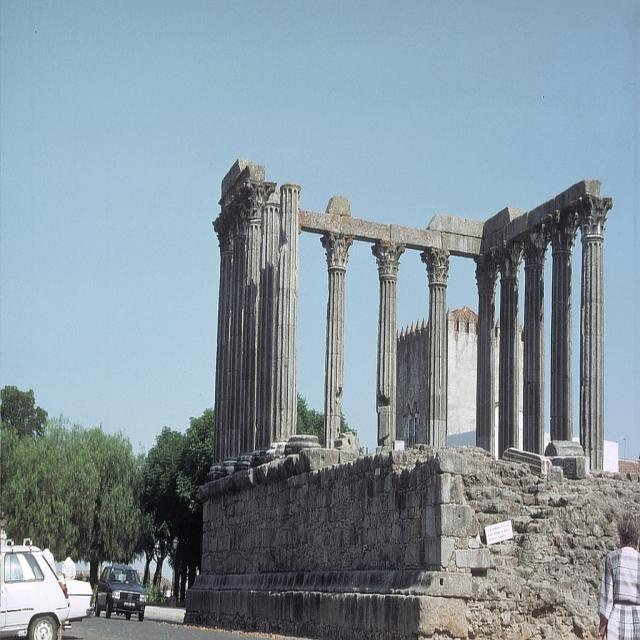car: (93, 560, 147, 618)
